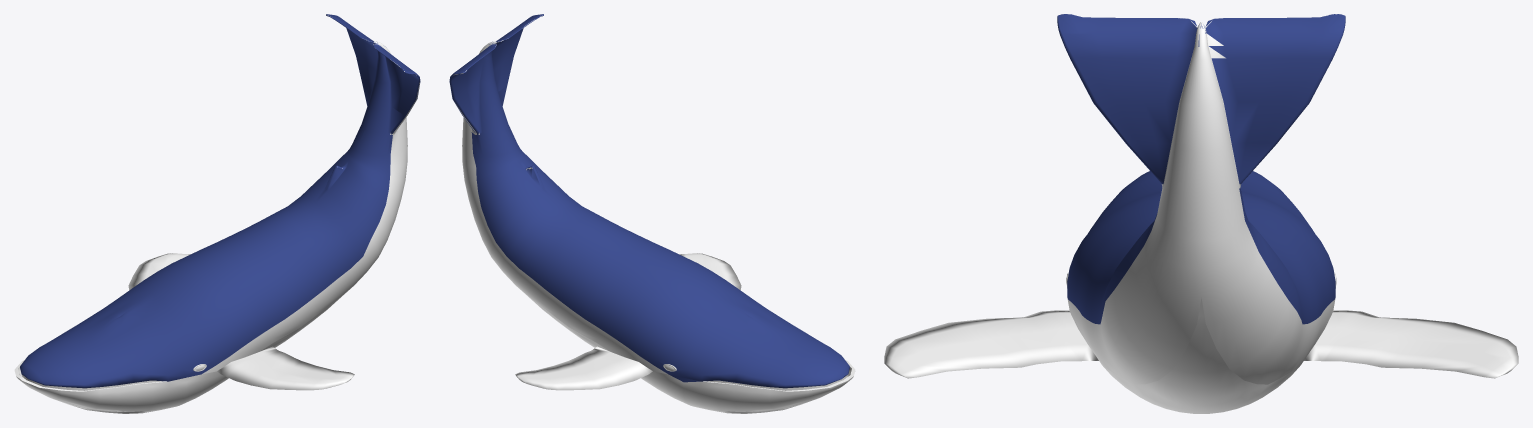
The model's file is wallet.gltf.
3 views of the same model, side by side, from view 1: azimuth 30°, elevation 25°; view 2: azimuth 150°, elevation 25°; view 3: azimuth 270°, elevation 25° (orthographic). The views are drawn at different scales.
Parts seen in each view (by area): view 1: Default-Mat, Default-wire_177028149, Default-wire_229166215, Default-wire_224086086; view 2: Default-Mat, Default-wire_224086086, Default-wire_134006006, Default-wire_177028149; view 3: Default-Mat, Default-wire_177028149, Default-wire_224086086, Default-wire_134006006, Default-wire_229166215.
Part boxes in pixels (x1,y1,x2,y2): Default-Mat: (20, 14, 420, 388); Default-wire_177028149: (202, 41, 419, 390); Default-wire_229166215: (19, 288, 350, 413); Default-wire_224086086: (21, 14, 377, 378); Default-Mat: (449, 14, 849, 388); Default-wire_224086086: (454, 41, 844, 390); Default-wire_134006006: (519, 288, 850, 413); Default-wire_177028149: (493, 15, 741, 289); Default-Mat: (1057, 14, 1345, 324); Default-wire_177028149: (884, 14, 1201, 384); Default-wire_224086086: (1201, 14, 1518, 384); Default-wire_134006006: (1201, 273, 1336, 413); Default-wire_229166215: (1090, 299, 1201, 413).
Size of the model in its own units: 24036 by 18205 by 19118.
